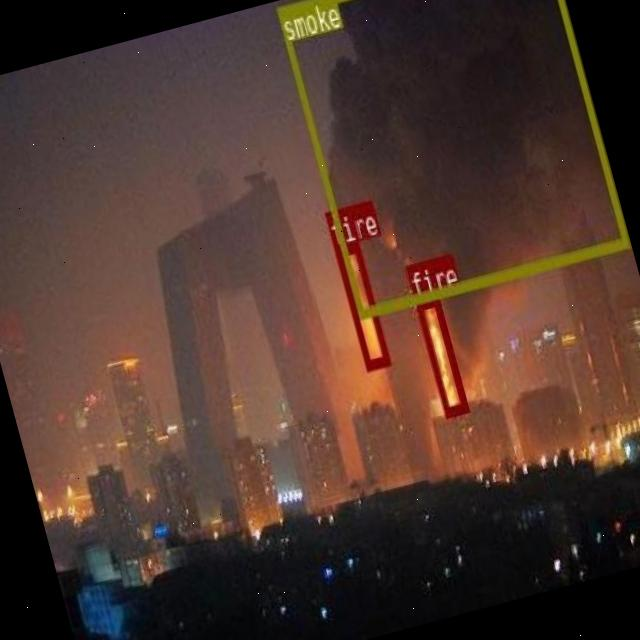fire: (334, 240, 390, 370), (413, 293, 468, 417)
smoke: (275, 0, 627, 318)
